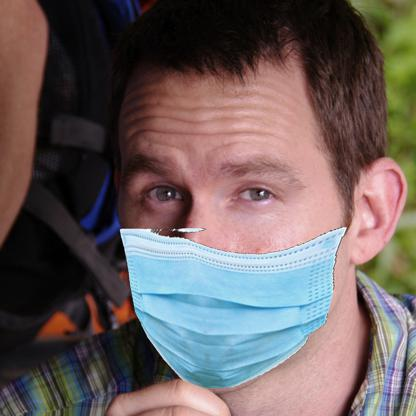mask: (119, 227, 344, 391)
